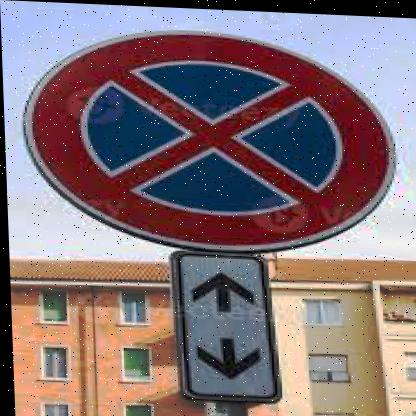No stopping: (20, 23, 382, 253)
